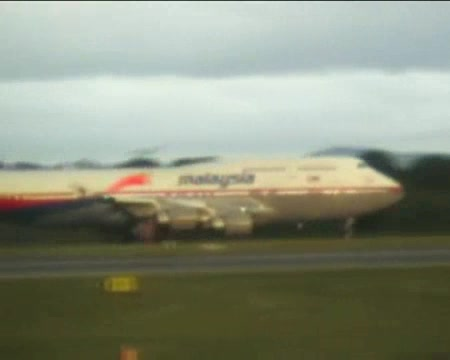aeroplane: (1, 156, 410, 242)
